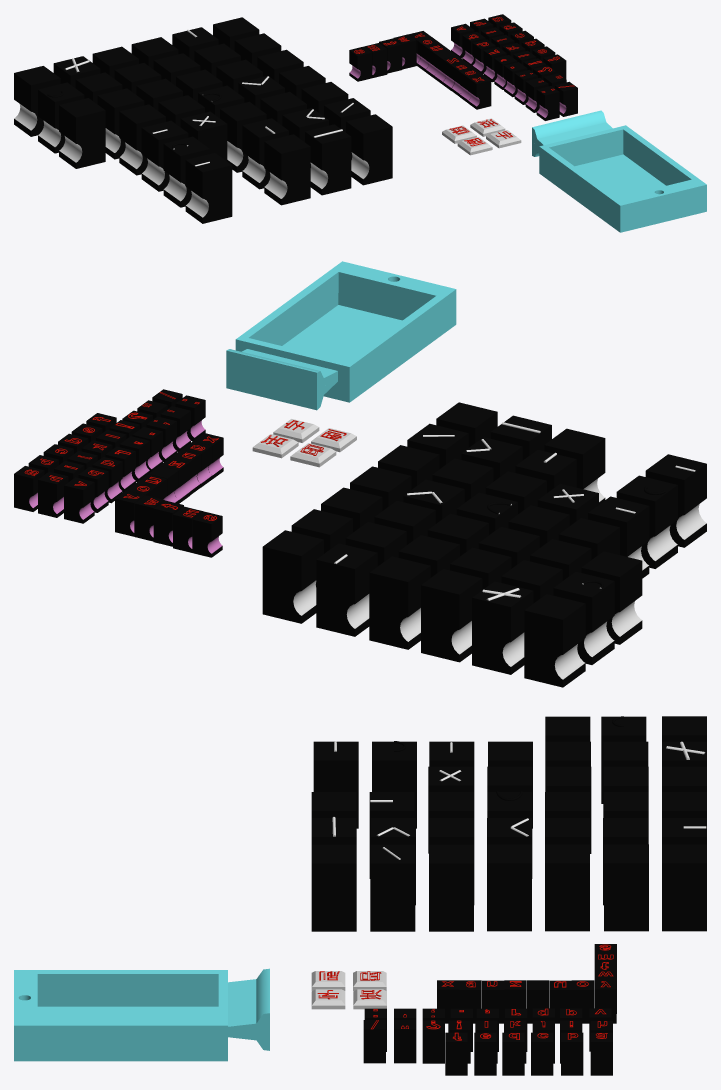
Rendered from Title.fbx.
3 renders of one model, top to bottom at view 1: azimuth 30°, elevation 25°; view 2: azimuth 150°, elevation 25°; view 3: azimuth 270°, elevation 25°, orthographic. The views are drawn at different scales.
Parts seen in each view (by area): view 1: Box001, SpaceWord33, SpaceWord36, SpaceWord21, SpaceWord07, SpaceWord14, SpaceWord34, SpaceWord30, SpaceWord31, SpaceWord32, SpaceWord20, SpaceWord35 (+51 smaller); view 2: Box001, SpaceWord34, SpaceWord01, SpaceWord08, SpaceWord15, SpaceWord22, SpaceWord27, SpaceWord35, SpaceWord33, SpaceWord36, SpaceWord32, Box002 (+46 smaller); view 3: Box001, SpaceWord07, SpaceWord06, SpaceWord01, SpaceWord02, SpaceWord03, SpaceWord04, SpaceWord05, SpaceWord33, SpaceWord32, Box002, SpaceWord35 (+47 smaller).
Boxes of the visible parts, x1,y1,x2,y2 form: Box001: (539, 125, 706, 232); SpaceWord33: (185, 153, 232, 223); SpaceWord36: (59, 98, 105, 168); SpaceWord21: (264, 134, 310, 205); SpaceWord07: (346, 114, 392, 185); SpaceWord14: (305, 124, 351, 195); SpaceWord34: (14, 66, 60, 136); SpaceWord30: (119, 104, 165, 175); SpaceWord31: (141, 120, 188, 191); SpaceWord32: (163, 136, 209, 207); SpaceWord20: (242, 118, 288, 189); SpaceWord35: (38, 82, 84, 153); Box001: (235, 261, 456, 402); SpaceWord34: (524, 594, 585, 687); SpaceWord01: (262, 530, 323, 623); SpaceWord08: (316, 543, 377, 636); SpaceWord15: (369, 556, 430, 649); SpaceWord22: (421, 569, 482, 662); SpaceWord27: (472, 581, 533, 674); SpaceWord35: (553, 571, 614, 664); SpaceWord33: (645, 454, 706, 547); SpaceWord36: (581, 551, 642, 644); SpaceWord32: (616, 475, 677, 568); Box002: (226, 349, 337, 391); Box001: (14, 970, 227, 1061); SpaceWord07: (311, 844, 356, 931); SpaceWord06: (370, 844, 415, 931); SpaceWord01: (662, 844, 706, 931); SpaceWord02: (604, 844, 648, 931); SpaceWord03: (545, 844, 589, 931); SpaceWord04: (487, 844, 531, 931); SpaceWord05: (429, 844, 473, 931); SpaceWord33: (313, 741, 358, 828); SpaceWord32: (372, 741, 416, 828); Box002: (228, 968, 269, 1032); SpaceWord35: (601, 716, 646, 803).
Bounding box in the file's own units: 119 × 13.32 × 120.
